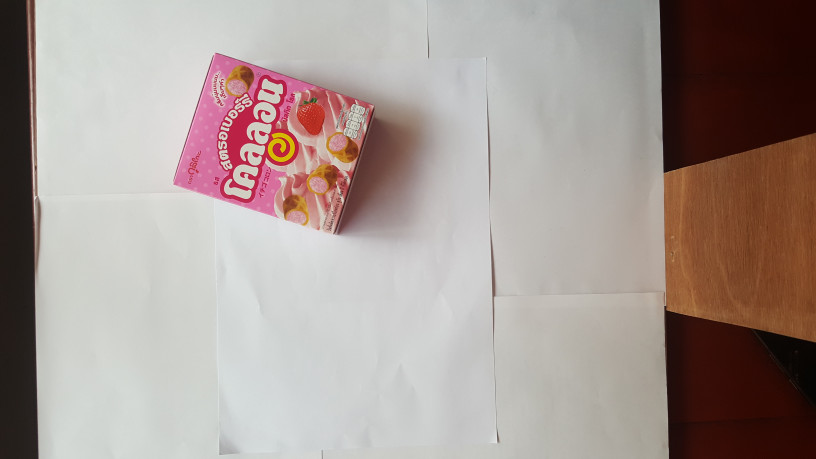collon-strawberry: (169, 53, 376, 240)
